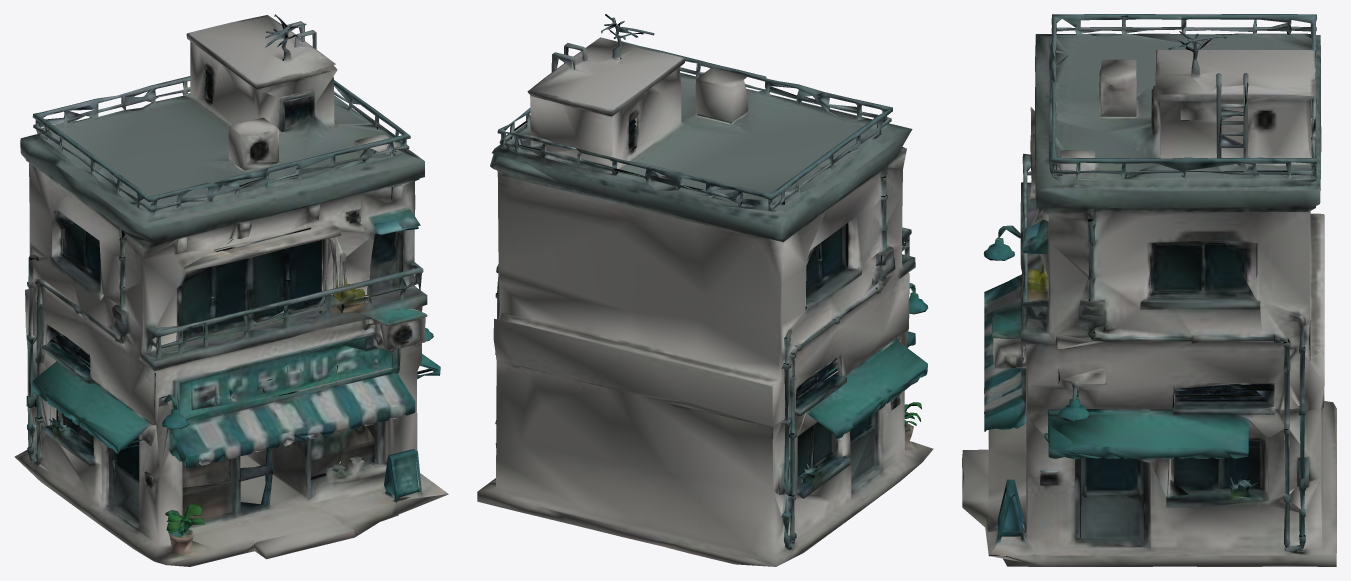
Rendered from building4.glb.
The picture shows the model from 3 angles, left to right: view 1: azimuth 30°, elevation 25°; view 2: azimuth 150°, elevation 25°; view 3: azimuth 270°, elevation 25°; orthographic projection. The views are drawn at different scales.
Visible parts, largest first — view 1: lo; view 2: lo; view 3: lo.
Boxes of the visible parts, x1=… form: lo: x1=14, y1=14, x2=448, y2=566; lo: x1=477, y1=14, x2=933, y2=566; lo: x1=962, y1=14, x2=1336, y2=566.
Bounding box in the file's own units: 0.7877 × 0.9992 × 0.69.
Materials: 1 (1 with a texture image).
